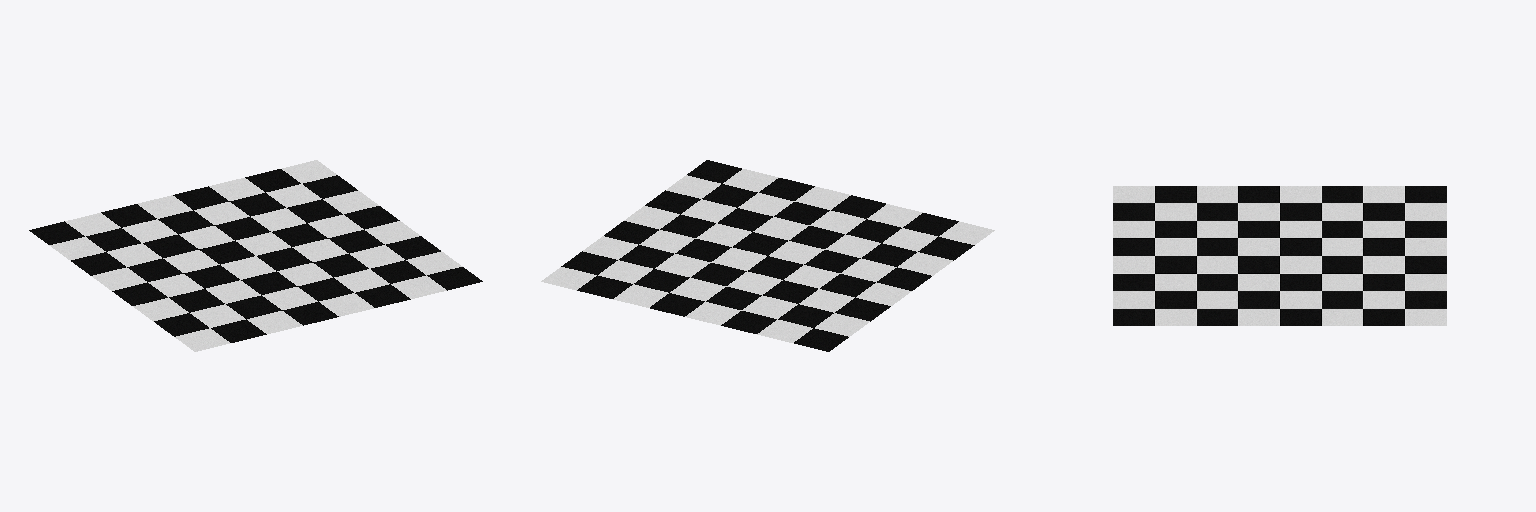
The picture shows the model from 3 angles: view 1: azimuth 30°, elevation 25°; view 2: azimuth 150°, elevation 25°; view 3: azimuth 270°, elevation 25°; orthographic projection.
Parts seen in each view (by area): view 1: the_plane; view 2: the_plane; view 3: the_plane.
Boxes of the visible parts, box(x1,y1,x2,y2) form: the_plane: box(29, 160, 482, 351); the_plane: box(541, 160, 994, 351); the_plane: box(1113, 186, 1446, 325).
Size of the model in its own units: 2 by 0 by 2.
Materials: 1 (1 with a texture image).